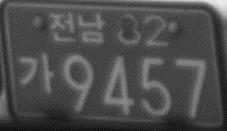2: (143, 13, 170, 47)
4: (101, 55, 137, 115)
5: (139, 55, 172, 117)
7: (172, 57, 209, 118)
8: (117, 12, 141, 44)
9: (62, 52, 95, 113)
가: (17, 51, 56, 96)
전남_O: (49, 10, 104, 43)
